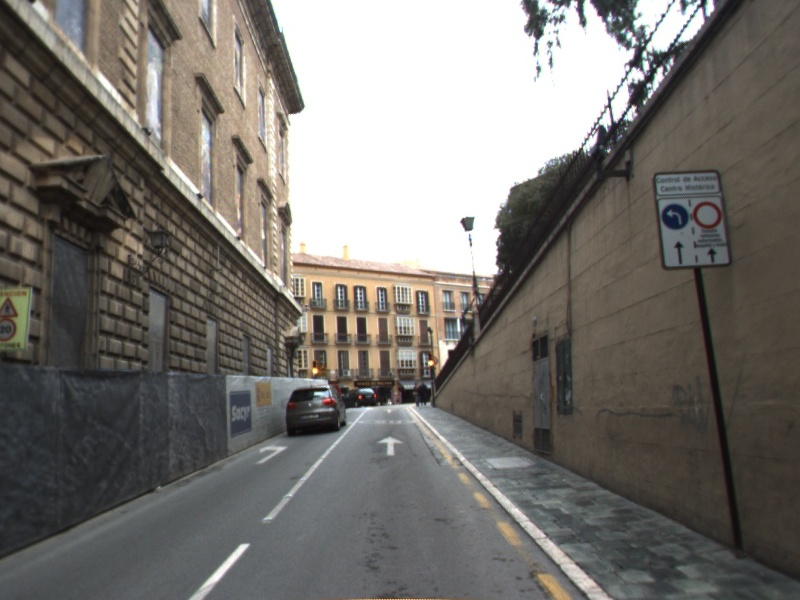LEFT: (254, 442, 290, 466)
STRAIGHT: (375, 434, 406, 458)
